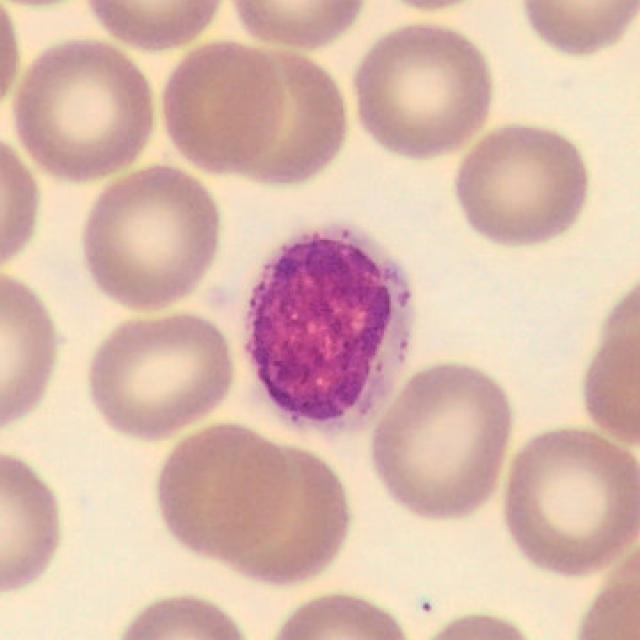Linfocito: (247, 226, 413, 436)
